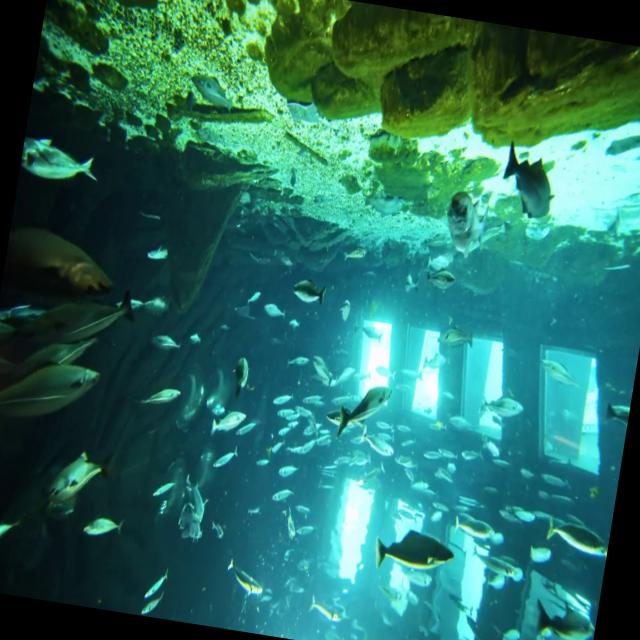fish: (0, 269, 141, 384), (0, 344, 106, 453), (0, 223, 128, 312), (41, 428, 126, 524), (490, 130, 564, 240), (426, 181, 512, 273), (368, 511, 462, 588), (323, 374, 397, 452), (18, 130, 102, 198), (538, 502, 614, 570), (471, 375, 541, 433), (515, 596, 595, 640), (428, 316, 486, 376), (121, 286, 176, 340), (218, 554, 274, 605), (296, 588, 353, 638), (283, 272, 335, 321), (81, 498, 131, 548), (418, 252, 468, 301), (127, 376, 181, 418), (223, 344, 260, 400), (0, 502, 27, 578), (592, 388, 632, 438), (138, 566, 180, 608), (135, 238, 175, 278), (208, 402, 245, 444), (538, 348, 575, 387)
